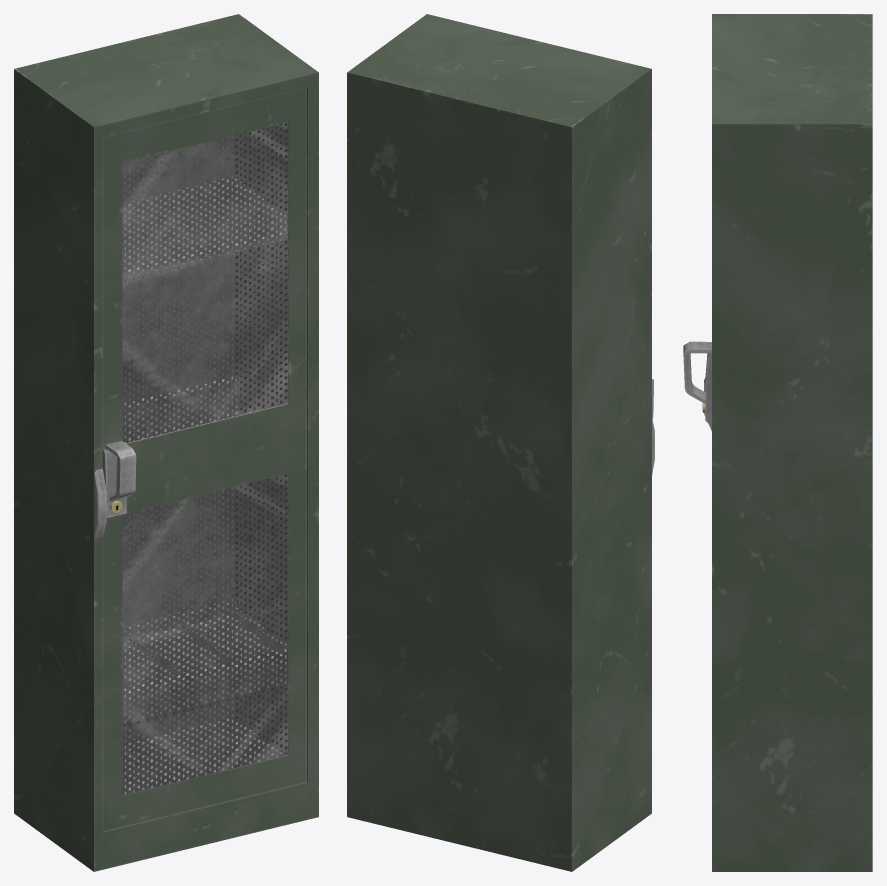
Rendered from weapon_locker.glb.
3 renders of one model, left to right at view 1: azimuth 30°, elevation 25°; view 2: azimuth 150°, elevation 25°; view 3: azimuth 270°, elevation 25°, orthographic.
Parts seen in each view (by area): view 1: LockerDoor_Low, Locker_Low; view 2: Locker_Low; view 3: Locker_Low, LockerDoor_Low.
Part boxes in pixels (box(x1,y1,x2,y2)): LockerDoor_Low: box(102, 87, 306, 831); Locker_Low: box(14, 14, 318, 871); Locker_Low: box(347, 14, 654, 871); Locker_Low: box(704, 14, 872, 871); LockerDoor_Low: box(683, 341, 711, 424).
Bounding box in the file's own units: 0.0791 × 0.25 × 0.0574.
1 material, 1 textured.
